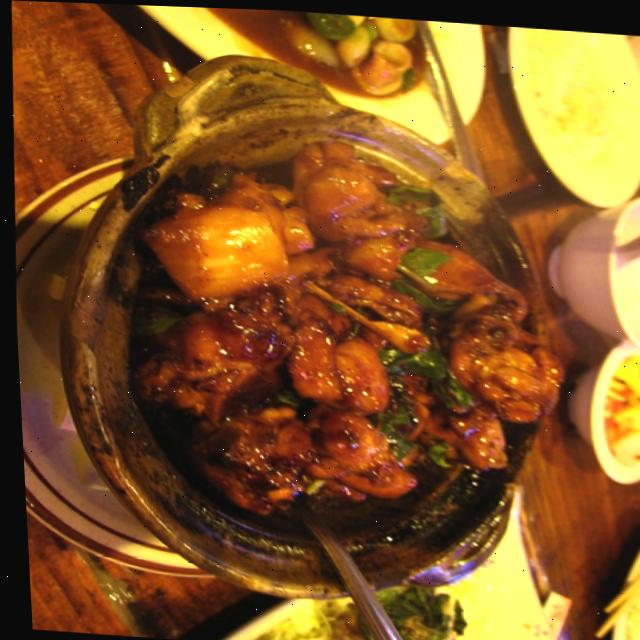鸡肉料理 含炸鸡: (23, 53, 595, 615)
